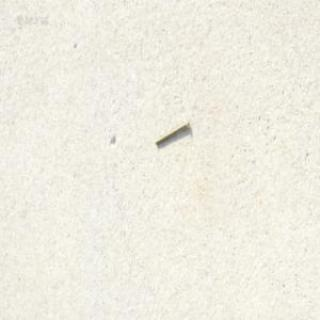Bolttrack_idkeyframe: (154, 117, 189, 146)
